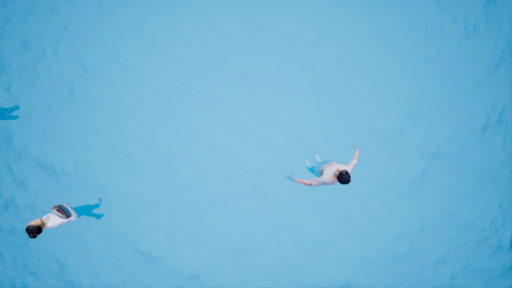person: (283, 137, 366, 193), (18, 189, 107, 239)
